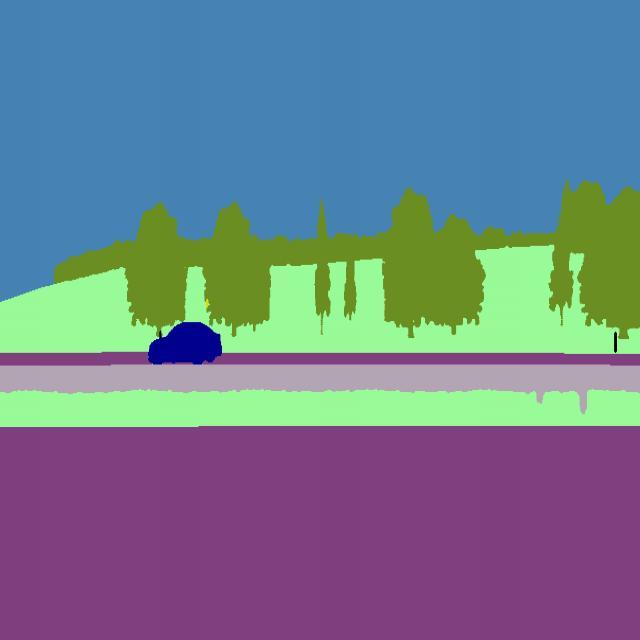safe: (147, 318, 226, 368)
